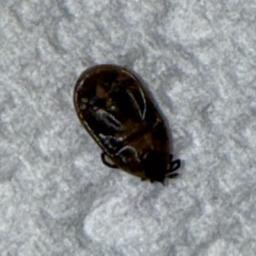Ixodes scapularis: (56, 92, 136, 230)
